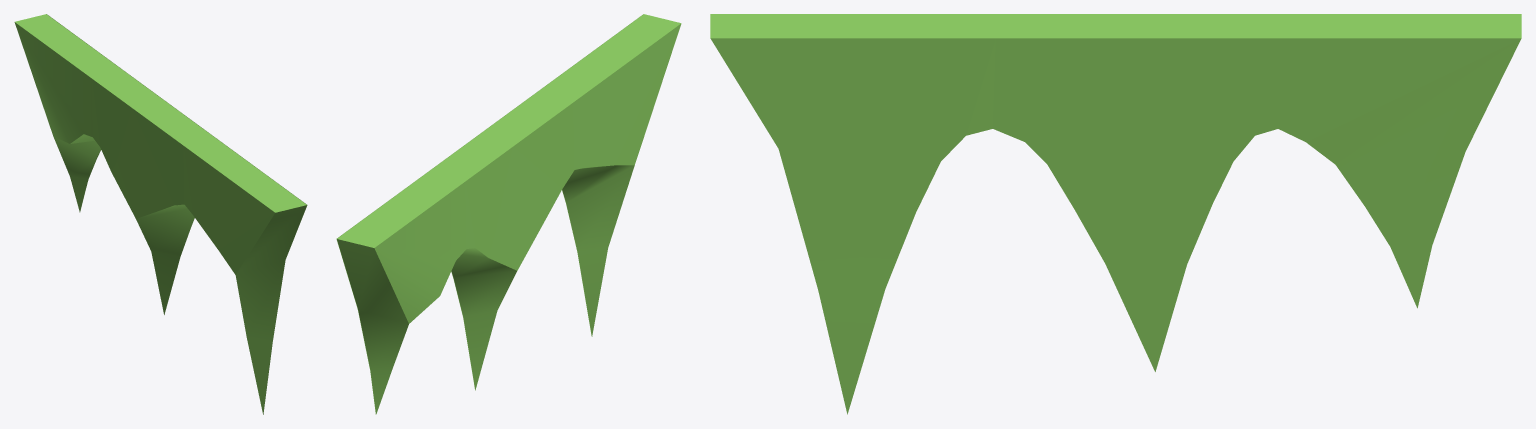
Rendered from mosses_F.fbx.
3 renders of one model, left to right at view 1: azimuth 30°, elevation 25°; view 2: azimuth 150°, elevation 25°; view 3: azimuth 270°, elevation 25°, orthographic. The views are drawn at different scales.
Parts seen in each view (by area): view 1: moss_F_thick, moss_F; view 2: moss_F_thick, moss_F; view 3: moss_F, moss_F_thick.
Part boxes in pixels (x1=…): moss_F_thick: x1=14, y1=14, x2=306, y2=414; moss_F: x1=47, y1=14, x2=307, y2=414; moss_F_thick: x1=337, y1=14, x2=681, y2=414; moss_F: x1=336, y1=14, x2=643, y2=414; moss_F: x1=710, y1=38, x2=1521, y2=414; moss_F_thick: x1=710, y1=14, x2=1521, y2=266.
Size of the model in its own units: 1.42 by 10.1 by 19.72.
